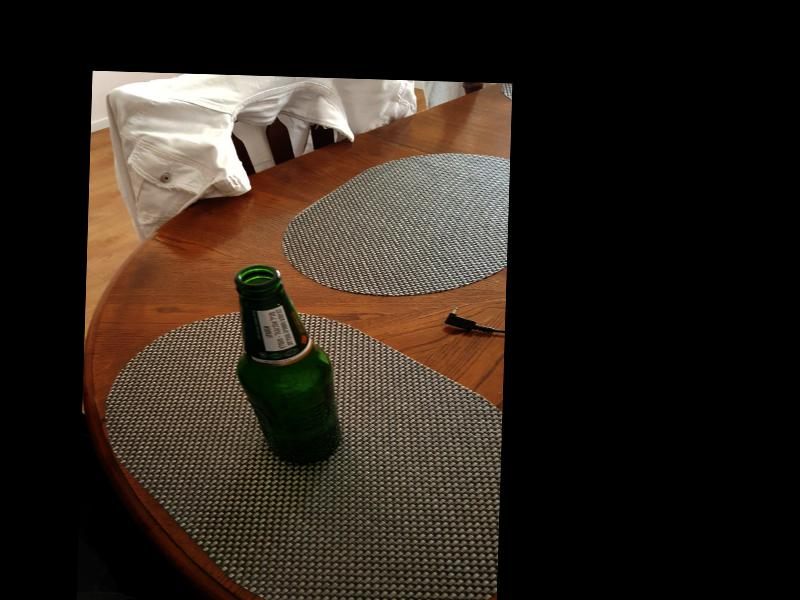Beer: (237, 267, 346, 464)
